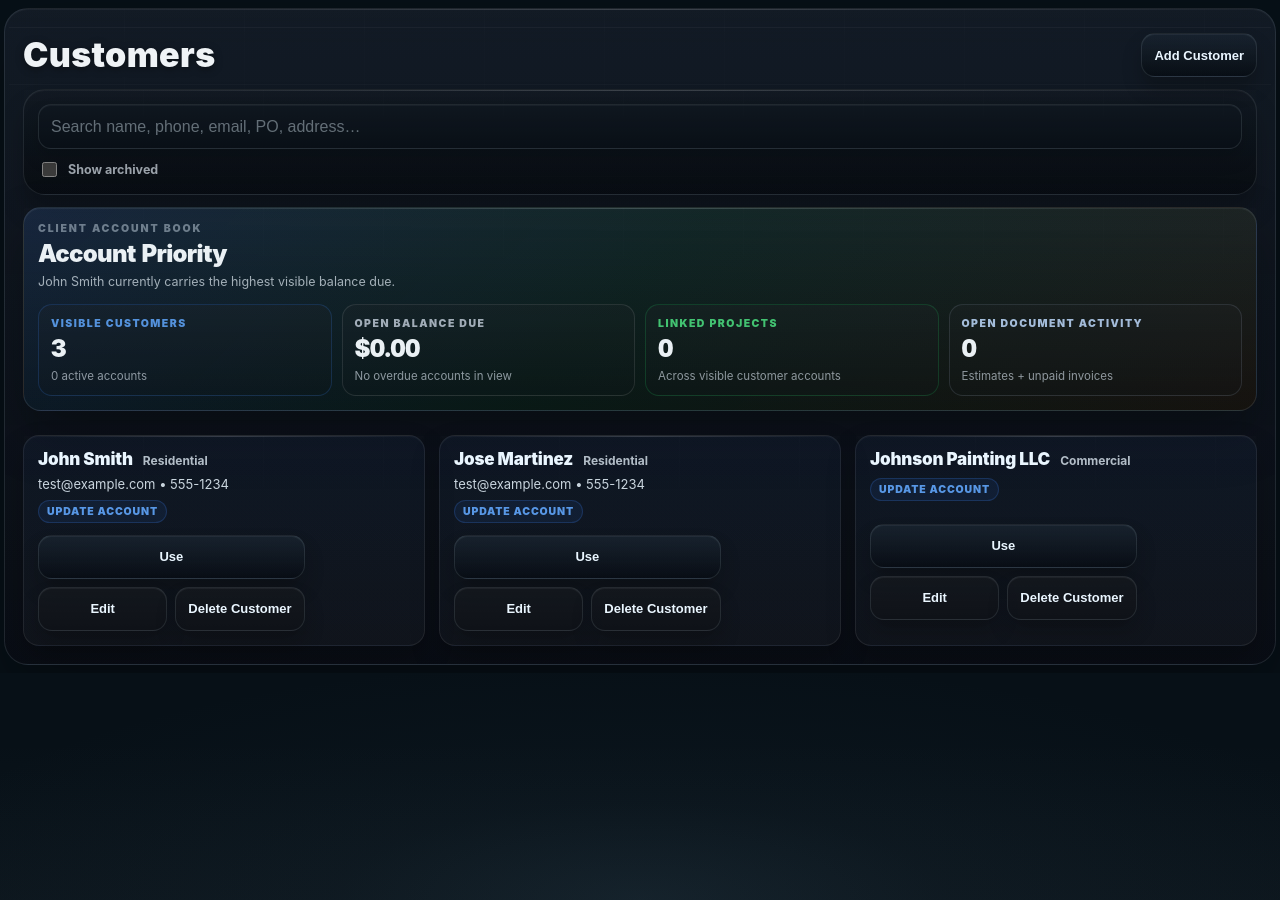
it: CustomersScreen typeahead dropdown › typing shows a dropdown with a matching customer, an Add Customer row, and keeps the lower filtered list
Expected: the text "John Smith" is shown, [38, 450, 133, 469]
Type "Jo" into the dropdown with placeholder "Search name, phone, email, PO, address…".
click(640, 127); type("Jo")  # box [38, 104, 1242, 149]
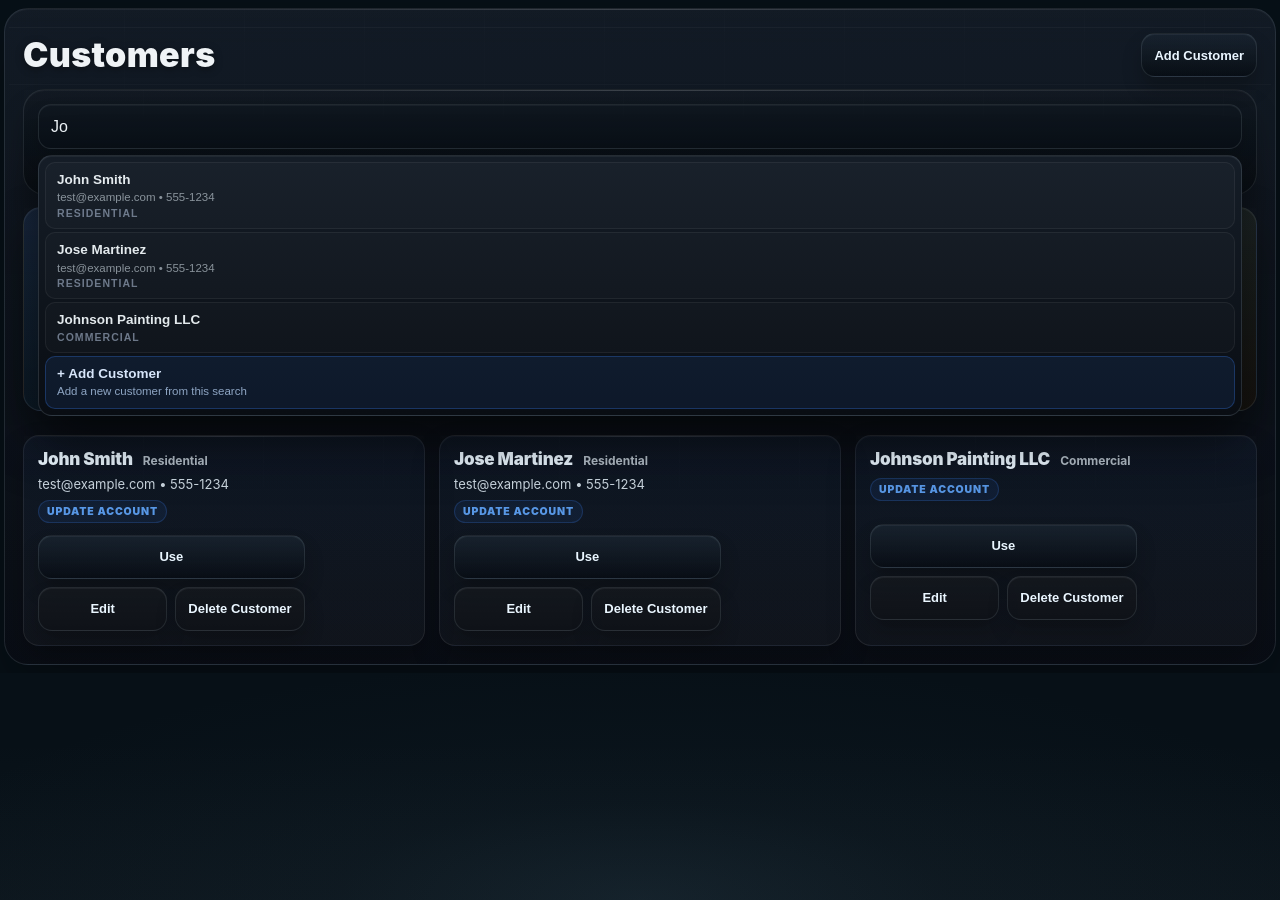
Expected: the text "John Smith" next to "Show archived" is shown, [57, 172, 130, 187]
Expected: the text "+ Add Customer" is shown, [57, 366, 161, 381]
Expected: the option "John Smith test@example.com • 555-1234 Residential" is shown, [45, 162, 1235, 229]
